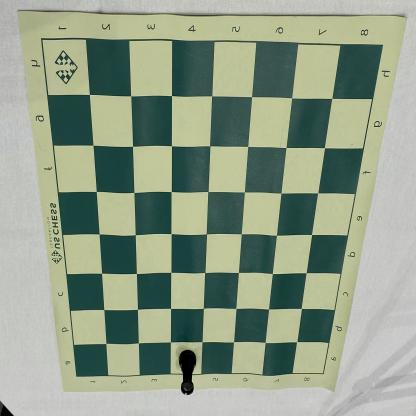black-rook: (178, 350, 196, 395)
